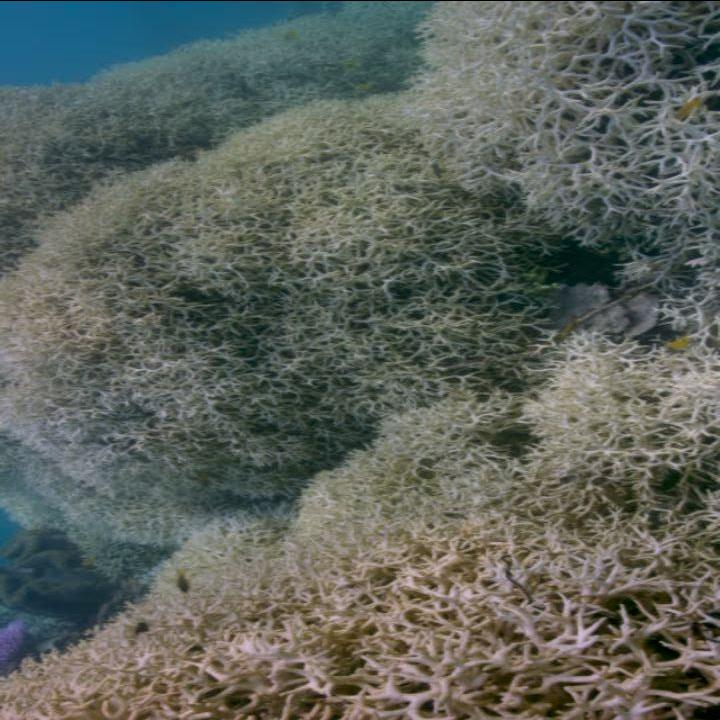Bleached disease: (43, 102, 653, 708)
